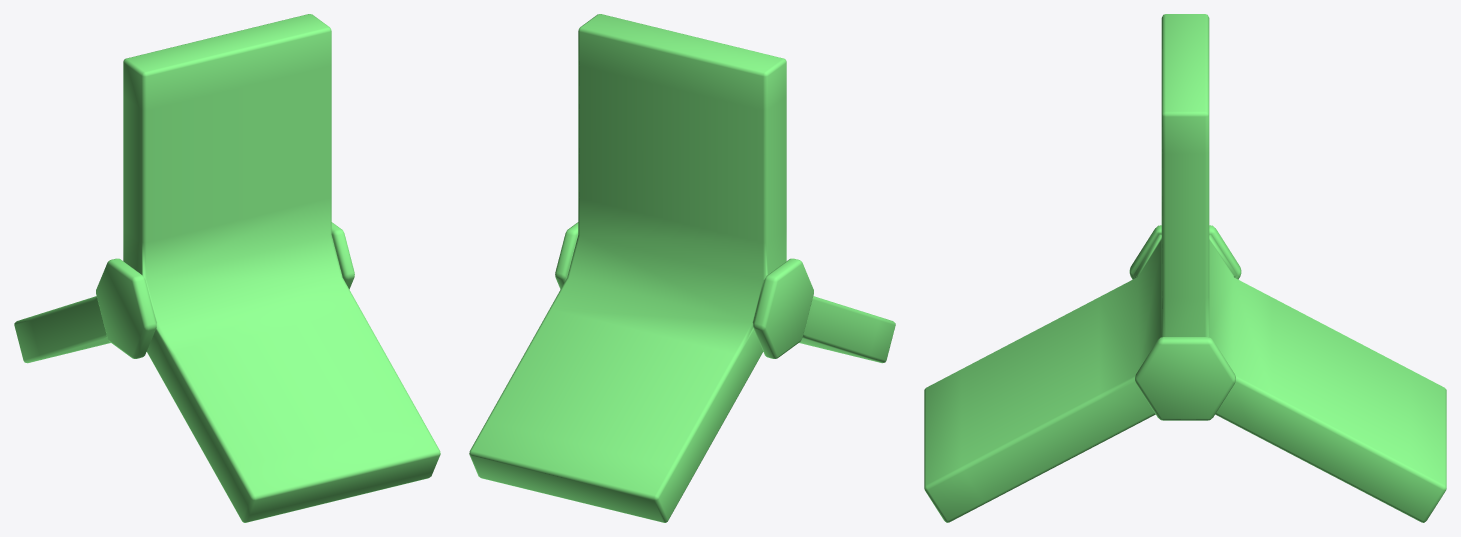
File: trap_platform3facesvertical_3.glb
The picture shows the model from 3 angles, left to right: view 1: azimuth 30°, elevation 25°; view 2: azimuth 150°, elevation 25°; view 3: azimuth 270°, elevation 25°; orthographic projection. The views are drawn at different scales.
Parts seen in each view (by area): view 1: Cylinder.053_visual; view 2: Cylinder.053_visual; view 3: Cylinder.053_visual.
Boxes of the visible parts, bbox=[...] form: Cylinder.053_visual: bbox=[14, 14, 440, 522]; Cylinder.053_visual: bbox=[469, 14, 895, 522]; Cylinder.053_visual: bbox=[924, 14, 1446, 522].
Size of what is drawn, in the model's own units: 5.18 by 8.75 by 10.08.
1 material, 1 textured.
